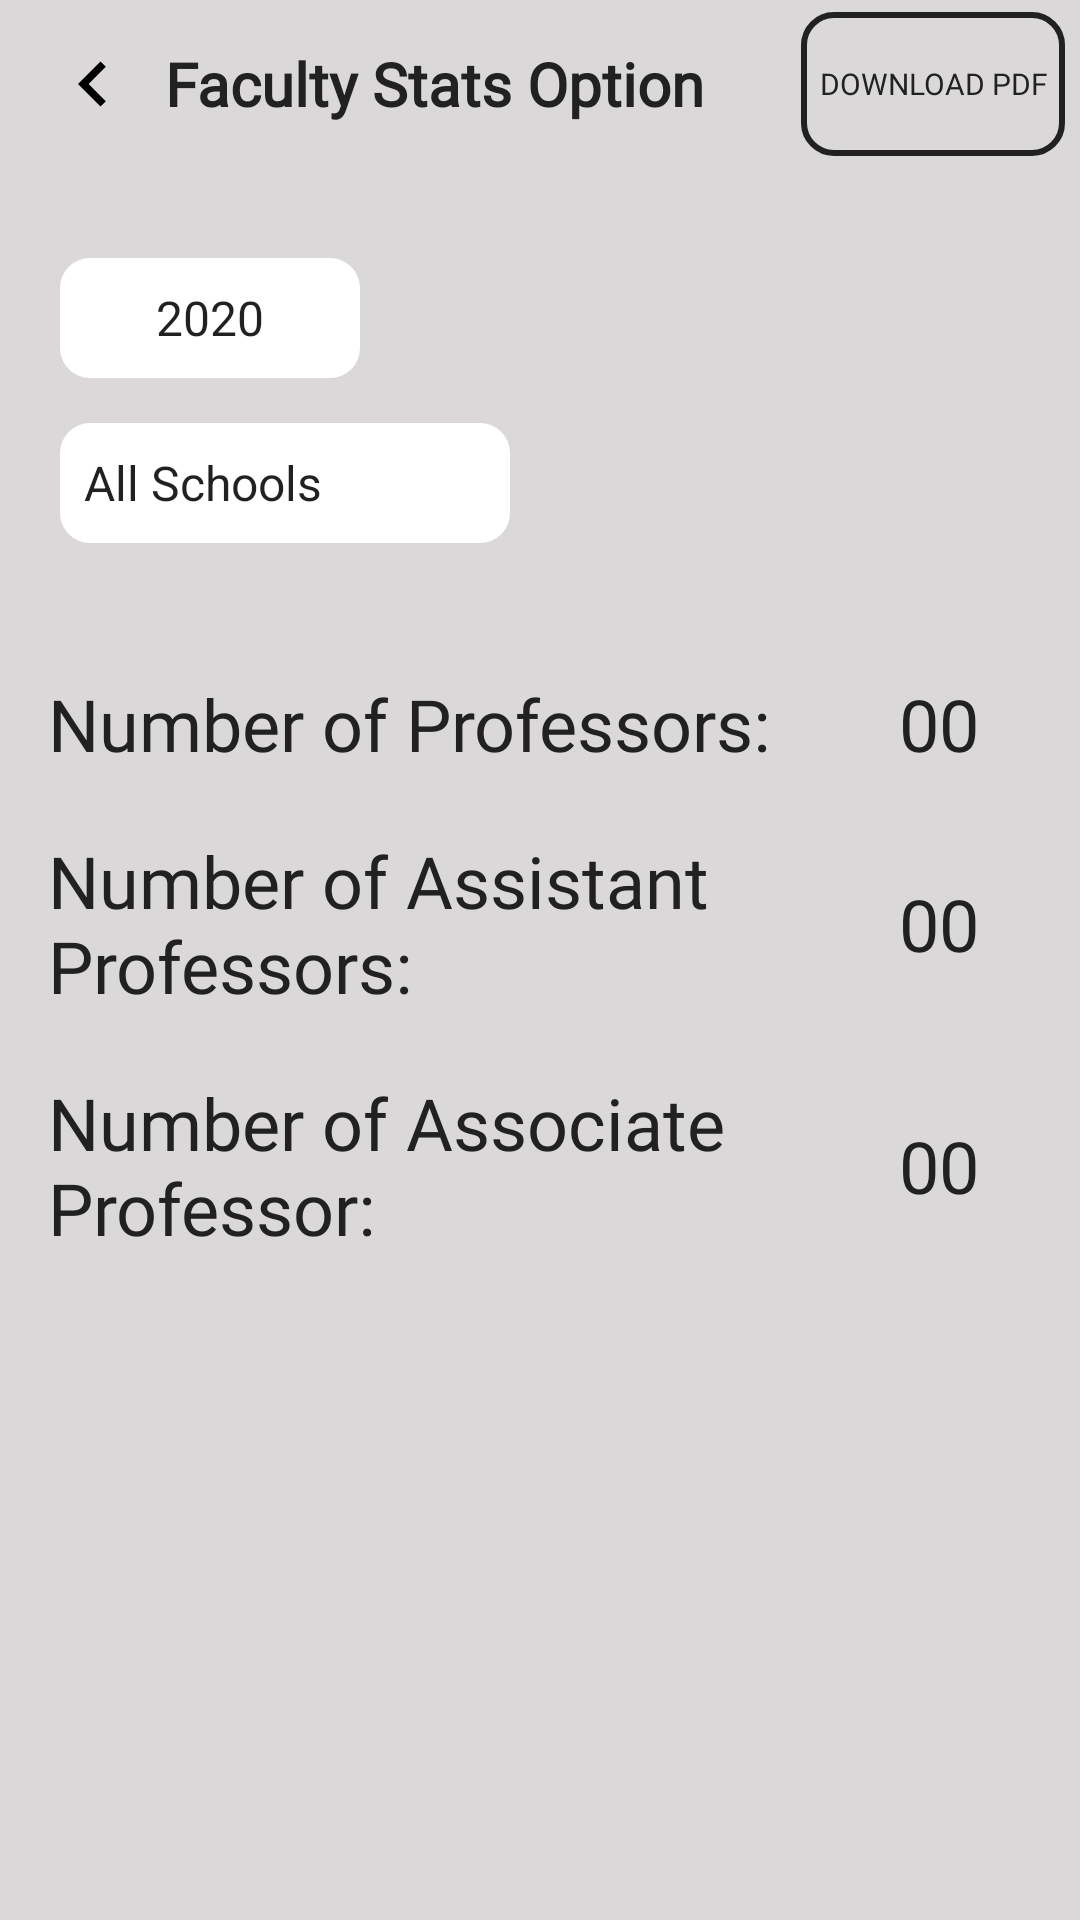

Screen size 1080x1920. Icon name, then its center in pixels as [x,y]:
back: [92,84]
